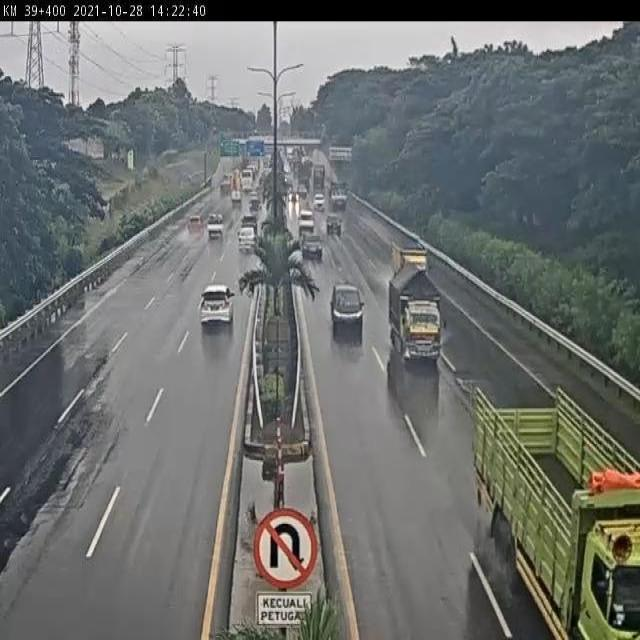Car: (184, 275, 239, 340), (326, 282, 369, 344), (295, 210, 317, 238), (326, 212, 345, 239)
Truck: (467, 397, 639, 633), (378, 241, 453, 371), (302, 234, 321, 261)
